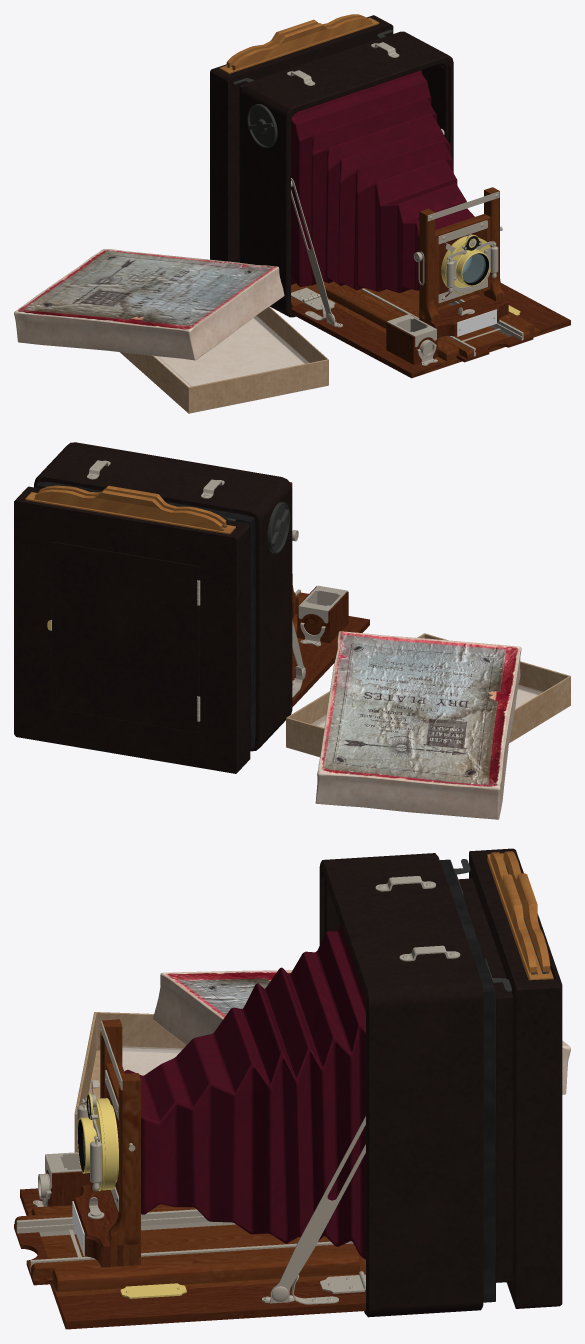
File: AAH_step01_opt.glb
The picture shows the model from 3 angles, top to bottom: view 1: azimuth 30°, elevation 25°; view 2: azimuth 150°, elevation 25°; view 3: azimuth 270°, elevation 25°; orthographic projection. The views are drawn at different scales.
Visible parts, largest first — view 1: camera_front.001, glassplatebox_lid.001, glasplatebox_bottom.001, camera_backing_group1_cameraBack_knob.001, glassplate.001, glassplate.002, cam_platesleeve1.001, cam_platesleeve.001, cam_plateholder.001; view 2: camera_backing_group1_cameraBack_knob.001, glassplatebox_lid.001, camera_front.001, glasplatebox_bottom.001, cam_platesleeve.001, cam_platesleeve1.001, cam_plateholder.001; view 3: camera_front.001, camera_backing_group1_cameraBack_knob.001, glassplatebox_lid.001, glasplatebox_bottom.001, cam_platesleeve.001, cam_platesleeve1.001, glassplate.001, glassplate.002, cam_plateholder.001.
Part boxes in pixels (x1,y1,x2,y2): camera_front.001: (233,30,570,378); glassplatebox_lid.001: (14,249,284,360); glasplatebox_bottom.001: (120,306,328,413); camera_backing_group1_cameraBack_knob.001: (210,15,393,262); glassplate.001: (158,316,308,386); glassplate.002: (155,318,303,386); cam_platesleeve1.001: (232,17,371,70); cam_platesleeve.001: (226,14,366,67); cam_plateholder.001: (219,17,379,73); camera_backing_group1_cameraBack_knob.001: (14,486,250,773); glassplatebox_lid.001: (315,631,521,819); camera_front.001: (34,442,369,751); glasplatebox_bottom.001: (286,633,570,757); cam_platesleeve.001: (35,489,222,530); cam_platesleeve1.001: (38,485,226,527); cam_plateholder.001: (25,492,235,534); camera_front.001: (14,853,511,1329); camera_backing_group1_cameraBack_knob.001: (458,848,562,1308); glassplatebox_lid.001: (153,970,570,1094); glasplatebox_bottom.001: (74,1012,186,1152); cam_platesleeve.001: (503,851,550,973); cam_platesleeve1.001: (490,852,536,974); glassplate.001: (122,1046,182,1075); glassplate.002: (123,1048,180,1074); cam_plateholder.001: (487,853,553,980).
Bounding box in the file's own units: 20.09 × 10.12 × 14.47.
Materials: 24 (20 with a texture image).
